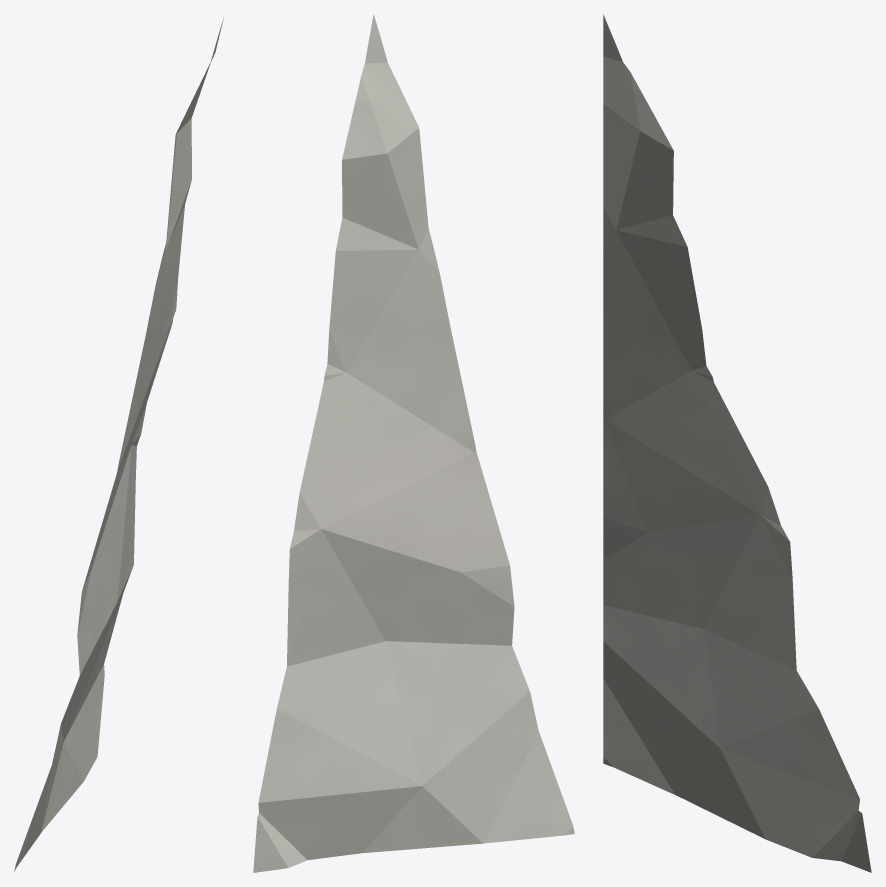
The picture shows the model from 3 angles, left to right: view 1: azimuth 30°, elevation 25°; view 2: azimuth 150°, elevation 25°; view 3: azimuth 270°, elevation 25°; orthographic projection. The views are drawn at different scales.
Size of the model in its own units: 0.0499 by 0.1826 by 0.0517.
Materials: 1 (1 with a texture image).
